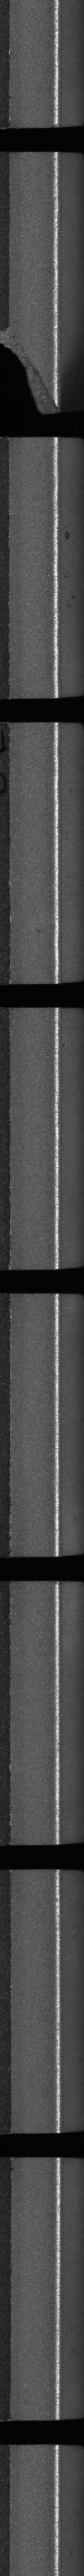Chip: (0, 319, 63, 417)
